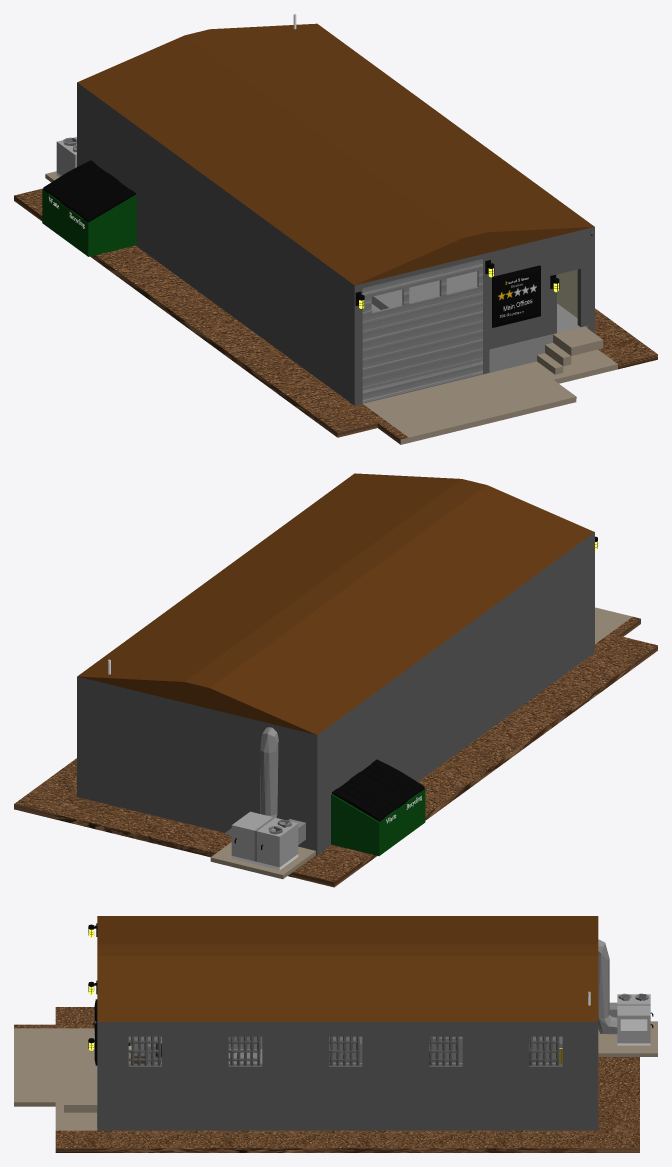
Rendered from 2 out of 5 Studios.glb.
3 renders of one model, top to bottom at view 1: azimuth 30°, elevation 25°; view 2: azimuth 150°, elevation 25°; view 3: azimuth 270°, elevation 25°, orthographic. The views are drawn at different scales.
Parts seen in each view (by area): view 1: Ext, Garage Door, Dumpster, Raised Floor, Cube, Stairs, RTU; view 2: Ext, Dumpster, RTU, SA Duct, Conc Pad; view 3: Ext, Window Bars, RTU, SA Duct, Conc Pad, Cubicle Walls, Stairs.
Boxes of the visible parts, x1,y1,x2,y2 form: Ext: (14, 23, 657, 444); Garage Door: (362, 259, 482, 403); Dumpster: (42, 160, 136, 256); Raised Floor: (409, 271, 587, 372); Cube: (492, 265, 540, 327); Stairs: (537, 326, 603, 374); RTU: (56, 137, 76, 176); Ext: (14, 473, 657, 887); Dumpster: (331, 759, 425, 855); RTU: (224, 811, 298, 870); SA Duct: (259, 727, 278, 817); Conc Pad: (210, 842, 315, 879); Ext: (14, 916, 639, 1152); Window Bars: (128, 1036, 559, 1065); RTU: (617, 993, 653, 1045); SA Duct: (598, 939, 617, 1034); Conc Pad: (598, 1021, 657, 1056); Cubicle Walls: (329, 1036, 562, 1062); Stairs: (64, 1091, 96, 1112).
Size of what is drawn, in the model's own units: 12.52 by 5.45 by 23.52.
Materials: 64 (3 with a texture image).
